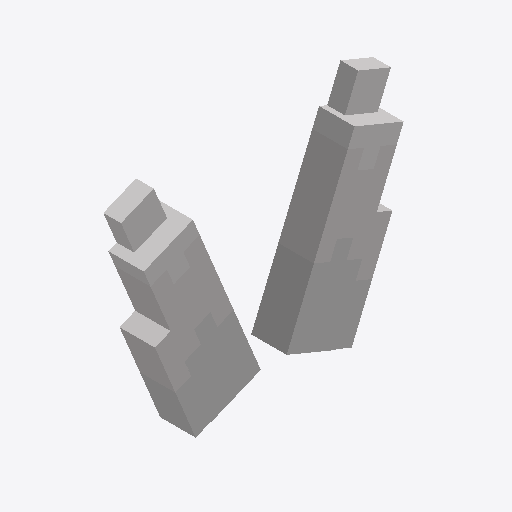
Isometric view (azimuth 45°, elevation 35.3°) of a Minecraft model made of 6 cuboids, textured from the same repository.
Parts seen in each view (by area): element 4, element 1, element 2, element 3, element 6, element 5.
Part boxes in pixels (bbox=[...]): element 4: bbox=[251, 105, 403, 354]; element 1: bbox=[108, 200, 260, 421]; element 2: bbox=[120, 311, 211, 437]; element 3: bbox=[104, 179, 166, 251]; element 6: bbox=[327, 57, 390, 114]; element 5: bbox=[336, 203, 391, 348].
Bounding box in the file's own units: 15.22 × 12.34 × 2.